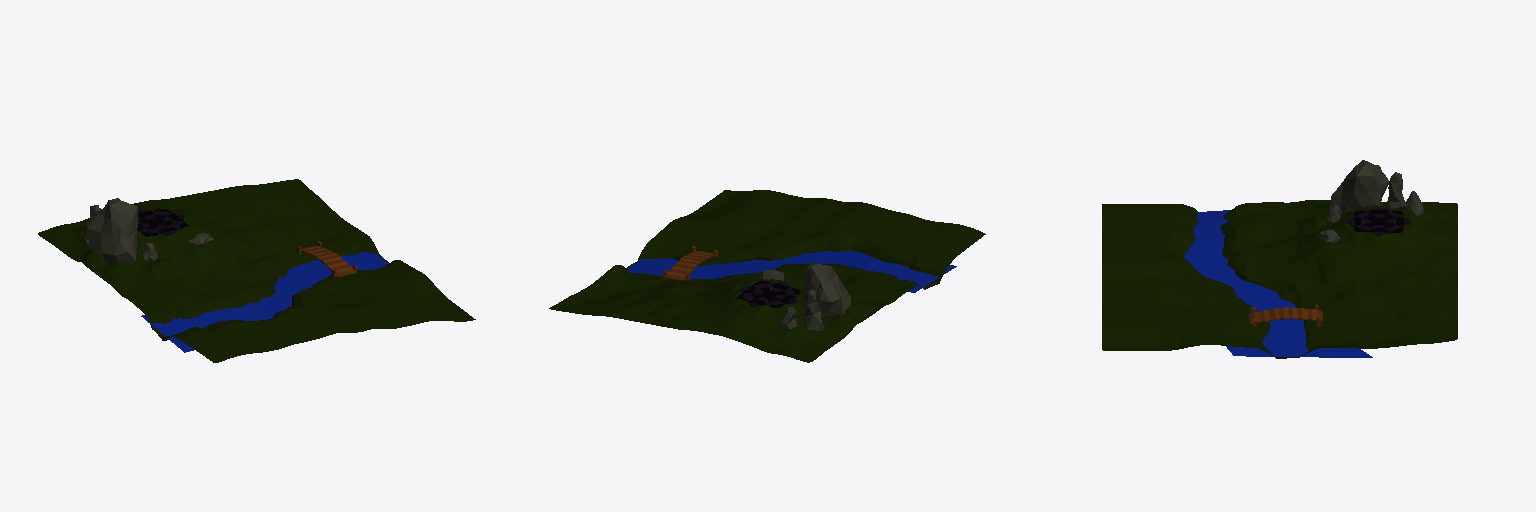
The model's file is BaseEnvironment.obj.
The picture shows the model from 3 angles: view 1: azimuth 30°, elevation 25°; view 2: azimuth 150°, elevation 25°; view 3: azimuth 270°, elevation 25°; orthographic projection.
Visible parts, largest first — view 1: Ground_Plane.001, River_Plane.000, Rock_Cube.009, Mage_circle_Circle.001, Bridge_Cube.005; view 2: Ground_Plane.001, River_Plane.000, Rock_Cube.009, Mage_circle_Circle.001, Bridge_Cube.005, Rock2_Cube.006; view 3: Ground_Plane.001, River_Plane.000, Rock_Cube.009, Mage_circle_Circle.001, Bridge_Cube.005.
Boxes of the visible parts, <box> form: Ground_Plane.001: <box>38,179,475,362</box>; River_Plane.000: <box>141,252,388,352</box>; Rock_Cube.009: <box>86,198,137,263</box>; Mage_circle_Circle.001: <box>137,209,187,236</box>; Bridge_Cube.005: <box>297,241,357,276</box>; Ground_Plane.001: <box>549,190,985,362</box>; River_Plane.000: <box>627,250,956,292</box>; Rock_Cube.009: <box>803,262,850,317</box>; Mage_circle_Circle.001: <box>737,281,800,307</box>; Bridge_Cube.005: <box>663,246,717,280</box>; Rock2_Cube.006: <box>804,289,824,330</box>; Ground_Plane.001: <box>1102,200,1457,358</box>; River_Plane.000: <box>1184,210,1372,357</box>; Rock_Cube.009: <box>1330,160,1388,212</box>; Mage_circle_Circle.001: <box>1346,207,1410,235</box>; Bridge_Cube.005: <box>1249,305,1323,326</box>.
Size of the model in its own units: 37.77 by 12.61 by 43.84.